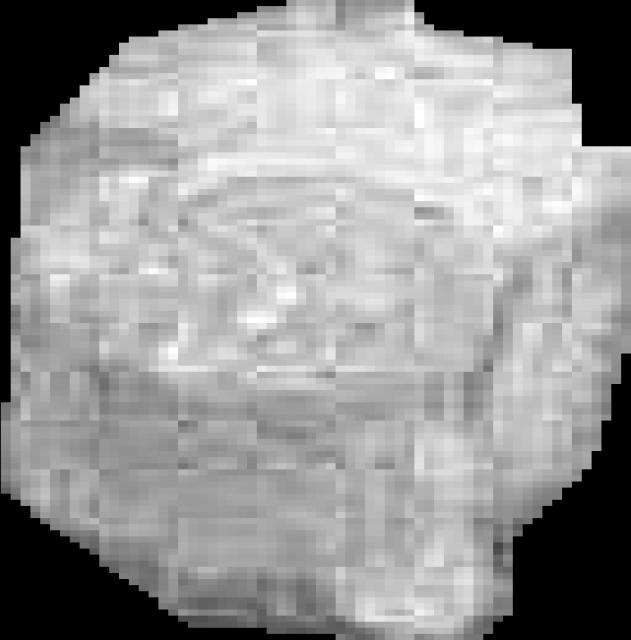tumor_moderate_chance: (1, 0, 631, 640)
